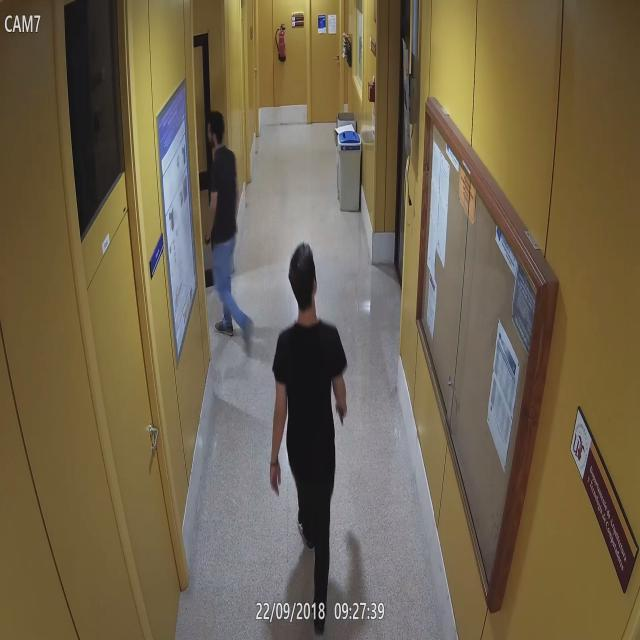Gun: (334, 396, 348, 424)
